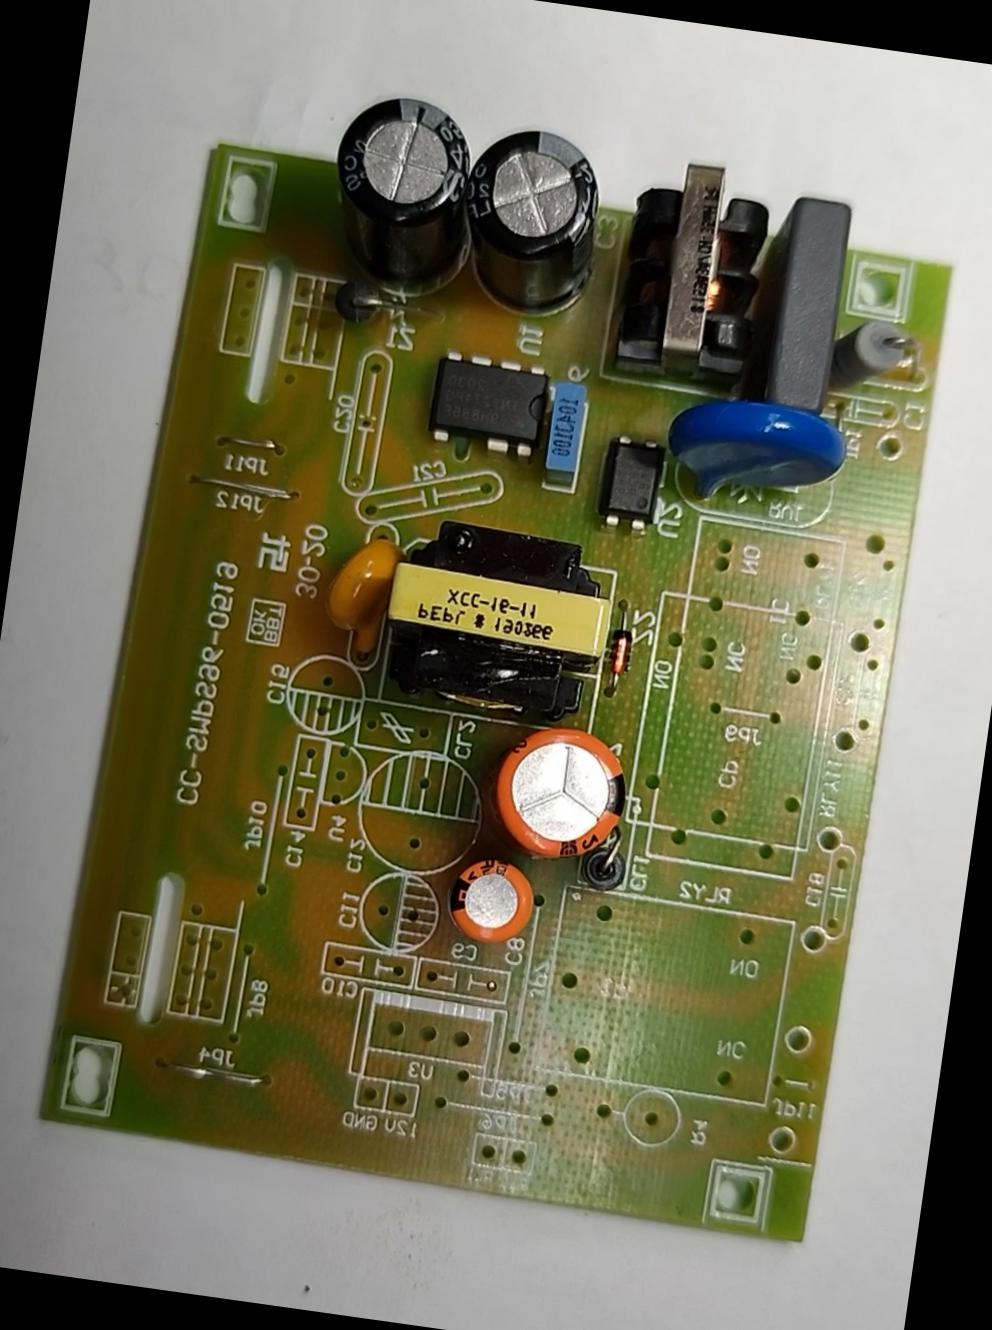Cap1: (480, 709, 637, 864)
Cap2: (443, 849, 547, 953)
Cap3: (449, 115, 611, 327)
Cap4: (320, 87, 483, 304)
MOSFET: (422, 342, 551, 463)
Mov: (661, 385, 858, 529)
Resistor: (827, 301, 913, 401)
Transformer: (372, 503, 627, 730), (612, 144, 785, 386)
